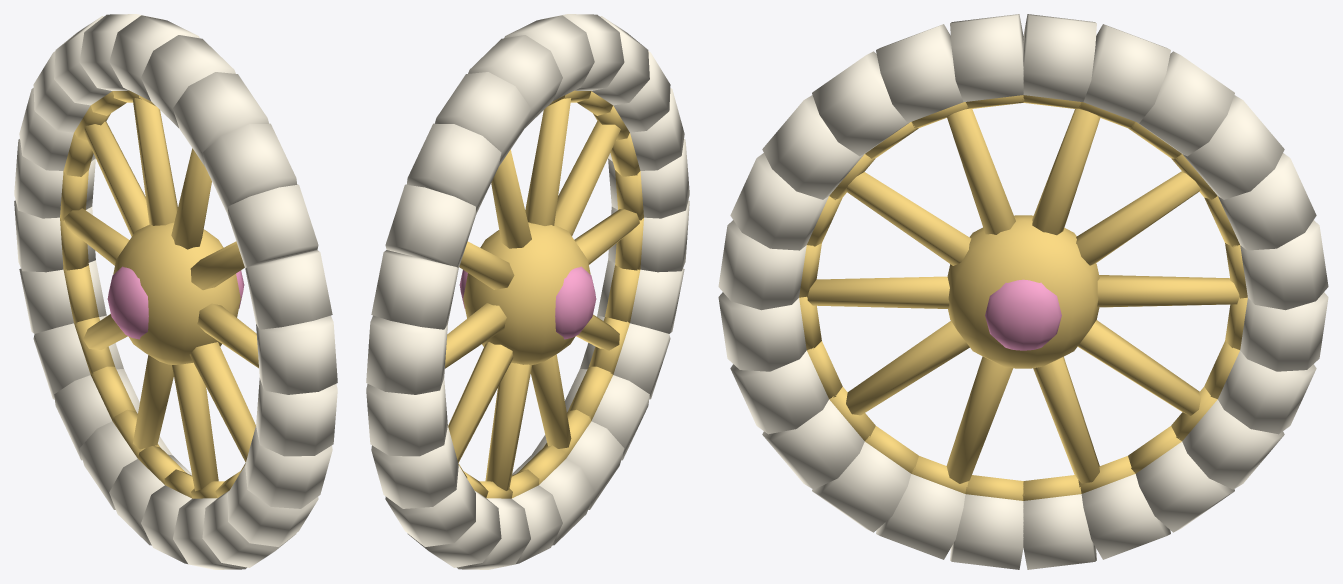
The model's file is pearococo_wheel.glb.
The picture shows the model from 3 angles, left to right: view 1: azimuth 30°, elevation 25°; view 2: azimuth 150°, elevation 25°; view 3: azimuth 270°, elevation 25°; orthographic projection. The views are drawn at different scales.
Parts seen in each view (by area): view 1: Wheel_Rim, Wheel_Gold, Wheel_Cap; view 2: Wheel_Rim, Wheel_Gold, Wheel_Cap; view 3: Wheel_Rim, Wheel_Gold, Wheel_Cap.
Boxes of the visible parts, x1,y1,x2,y2 form: Wheel_Rim: (14,14,337,569); Wheel_Gold: (60,90,258,498); Wheel_Cap: (107,266,244,339); Wheel_Rim: (366,14,689,569); Wheel_Gold: (445,90,643,498); Wheel_Cap: (459,266,596,339); Wheel_Rim: (718,14,1328,569); Wheel_Gold: (799,95,1247,500); Wheel_Cap: (985,279,1061,350).
Size of the model in its own units: 0.44 by 1.77 by 1.77.
